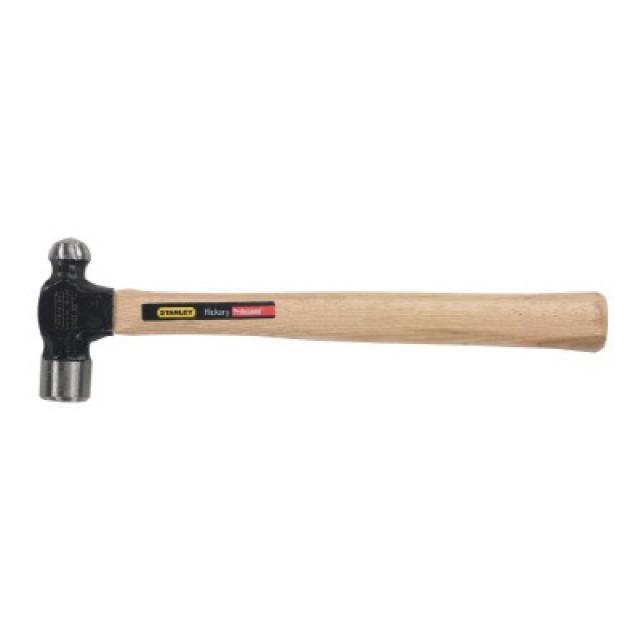hammer: (24, 230, 614, 420)
